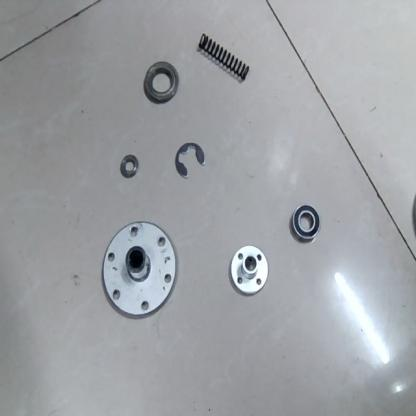FOD: (98, 218, 177, 322), (197, 26, 253, 84), (229, 242, 272, 296), (141, 57, 179, 108), (290, 198, 325, 245), (174, 142, 208, 184), (116, 151, 142, 181)
